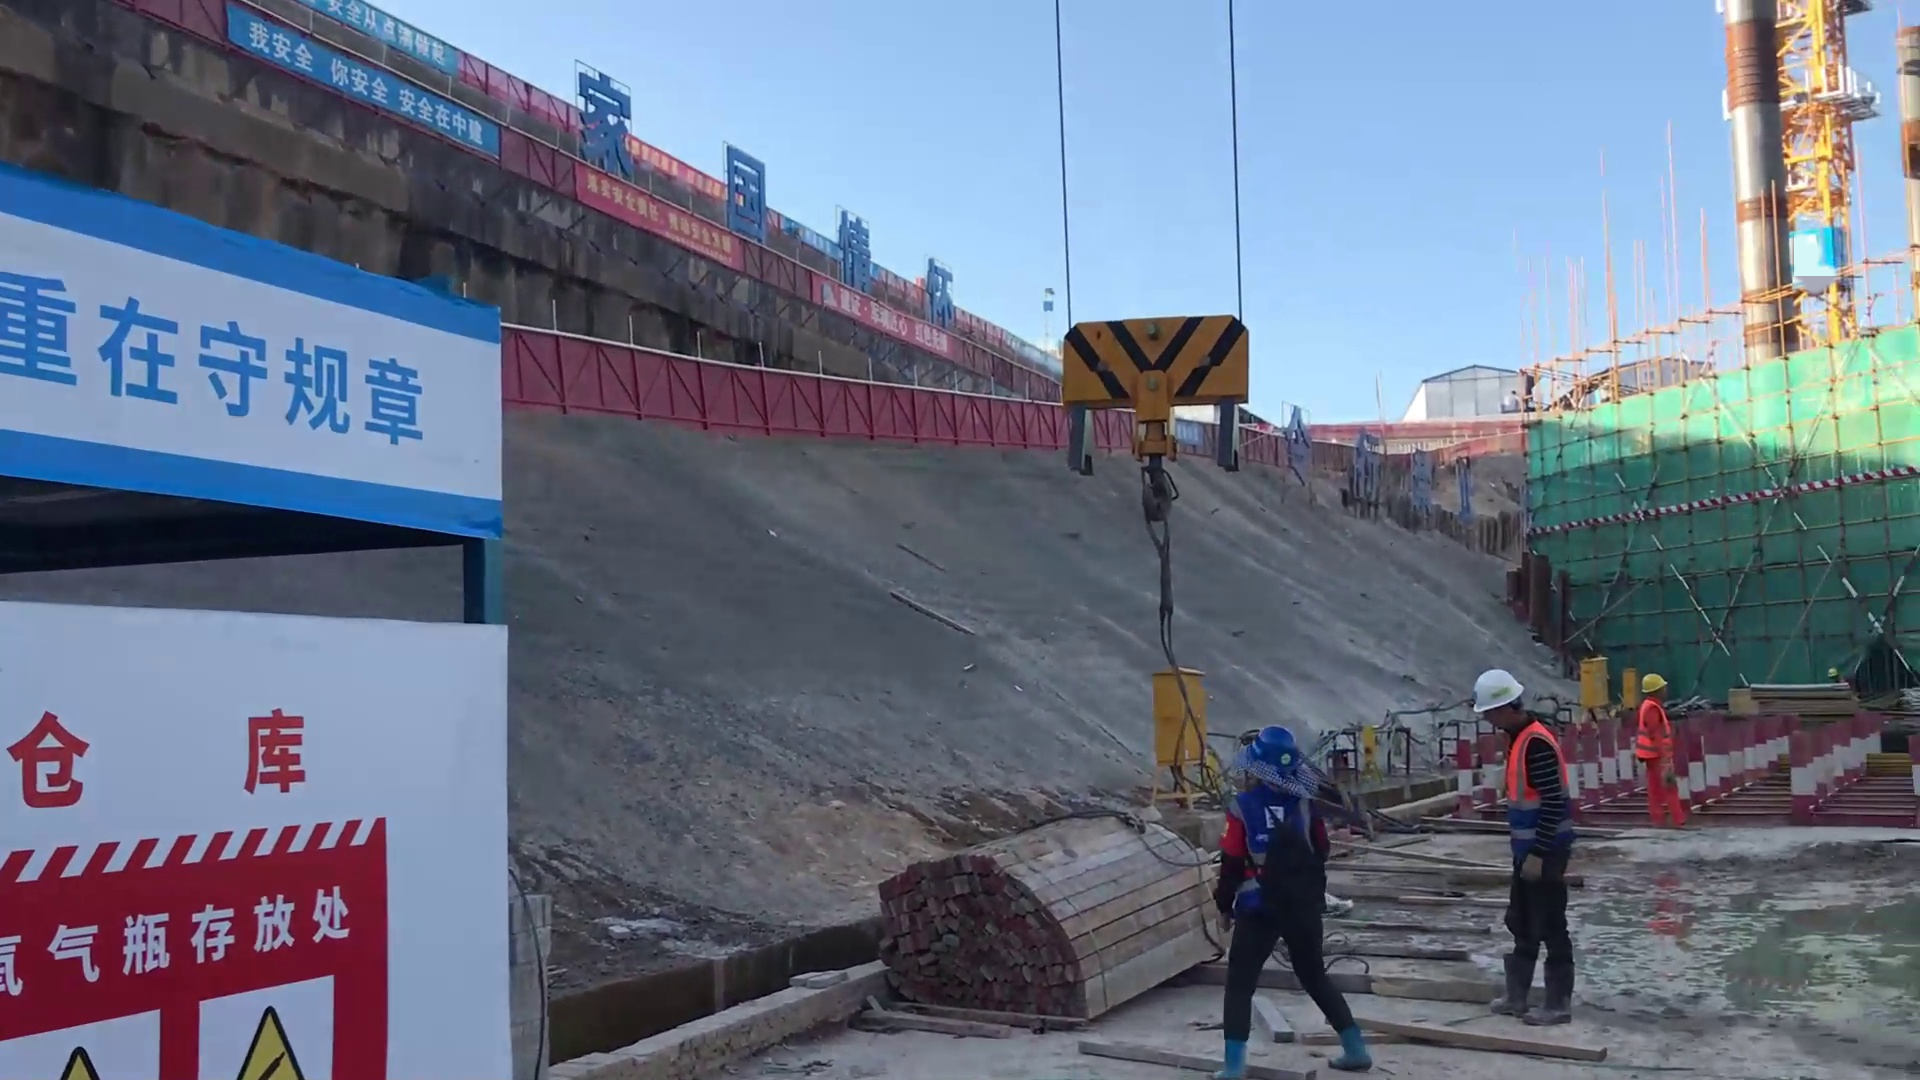ebox: (1126, 652, 1214, 775), (1578, 651, 1613, 711)
fence: (512, 329, 1038, 457)
helmet: (1211, 697, 1318, 818), (1462, 668, 1545, 745), (1630, 663, 1671, 708)
hook: (1042, 303, 1262, 507)
person: (1208, 716, 1376, 1080), (1470, 670, 1582, 1032), (1630, 671, 1694, 832)
slogan: (15, 826, 371, 1080), (1, 261, 453, 432), (212, 9, 501, 182)
vest: (1496, 732, 1560, 803), (1628, 705, 1673, 759)
wood: (843, 802, 1204, 1035)
